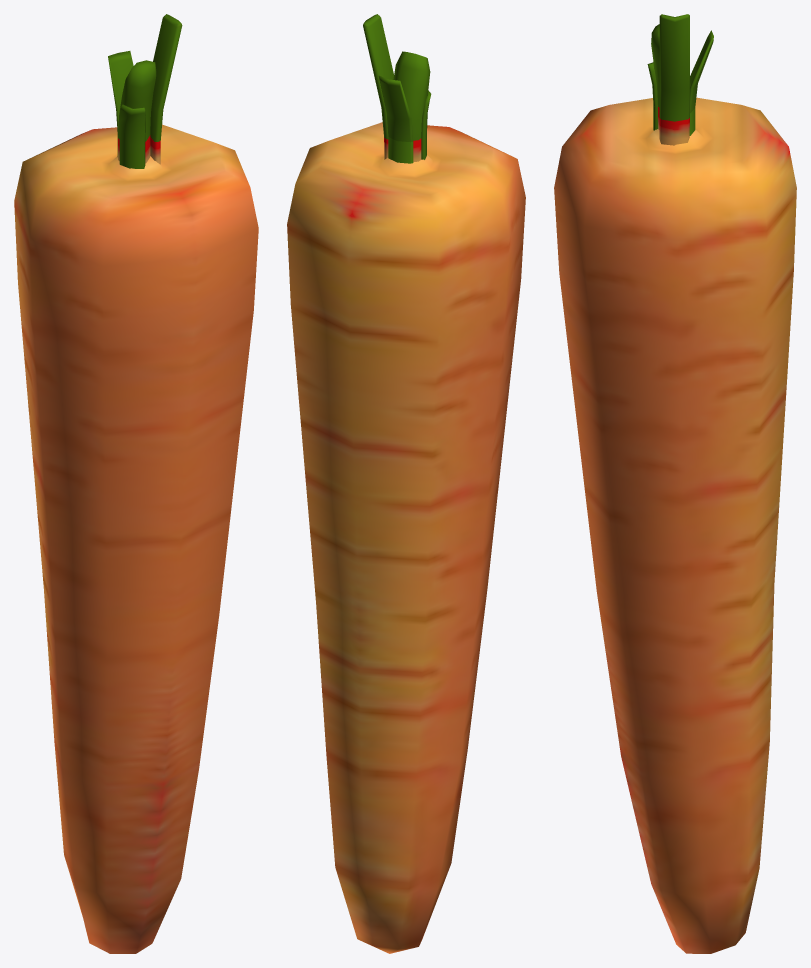
Rendered from carrot.fbx.
3 views of the same model, side by side, from view 1: azimuth 30°, elevation 25°; view 2: azimuth 150°, elevation 25°; view 3: azimuth 270°, elevation 25° (orthographic). The views are drawn at different scales.
Parts seen in each view (by area): view 1: carrot; view 2: carrot; view 3: carrot.
Part boxes in pixels (x1,y1,x2,y2): carrot: (14,14,258,953); carrot: (287,14,525,953); carrot: (554,14,796,953).
Bounding box in the file's own units: 1.92 × 8.11 × 1.86.
1 material, 1 textured.
